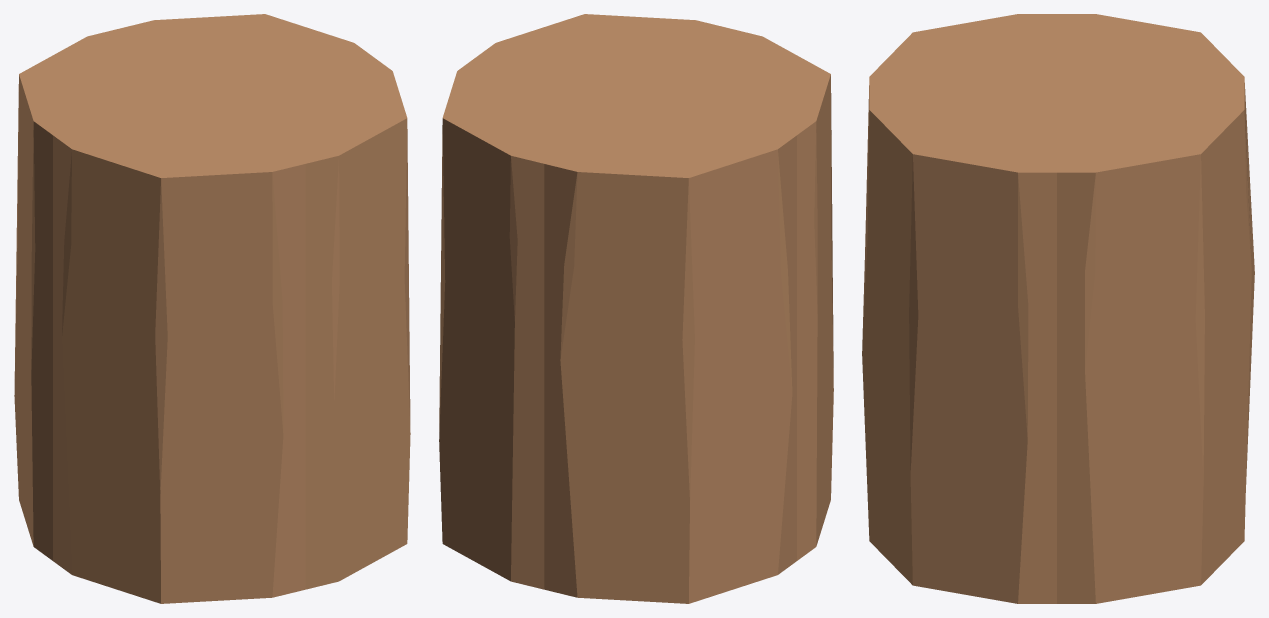
The model's file is Edge_Single.fbx.
The picture shows the model from 3 angles, left to right: view 1: azimuth 30°, elevation 25°; view 2: azimuth 150°, elevation 25°; view 3: azimuth 270°, elevation 25°; orthographic projection.
Visible parts, largest first — view 1: Cube.152; view 2: Cube.152; view 3: Cube.152.
Part boxes in pixels (<box>): Cube.152: <box>14,14,410,603</box>; Cube.152: <box>439,14,833,603</box>; Cube.152: <box>862,14,1254,603</box>.
Size of the model in its own units: 0.8256 by 0.8252 by 1.
